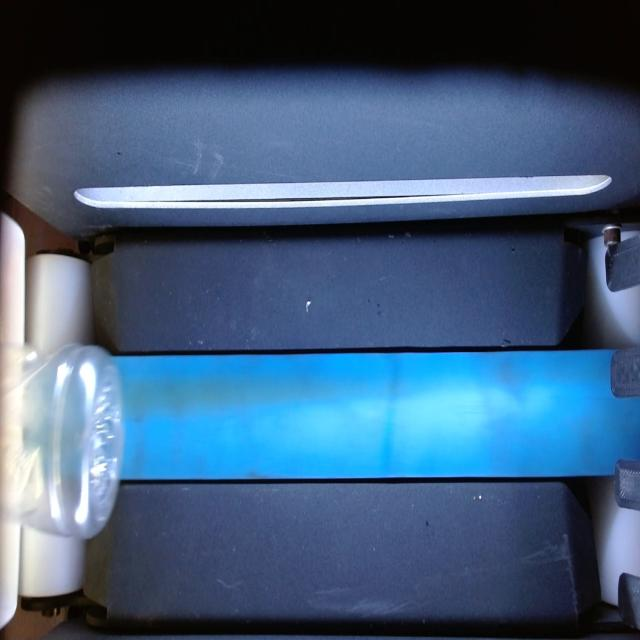bottom: (0, 344, 124, 538)
